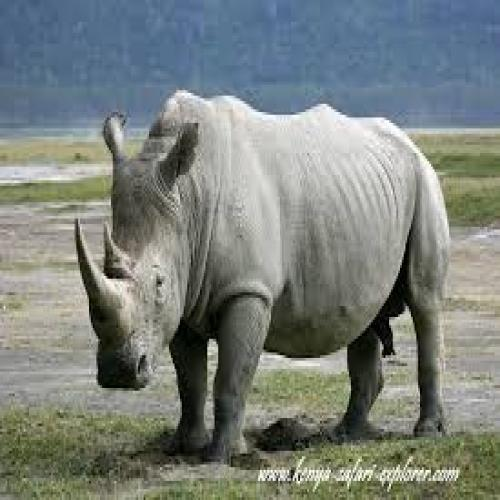rhino-endangered: (60, 96, 464, 449)
